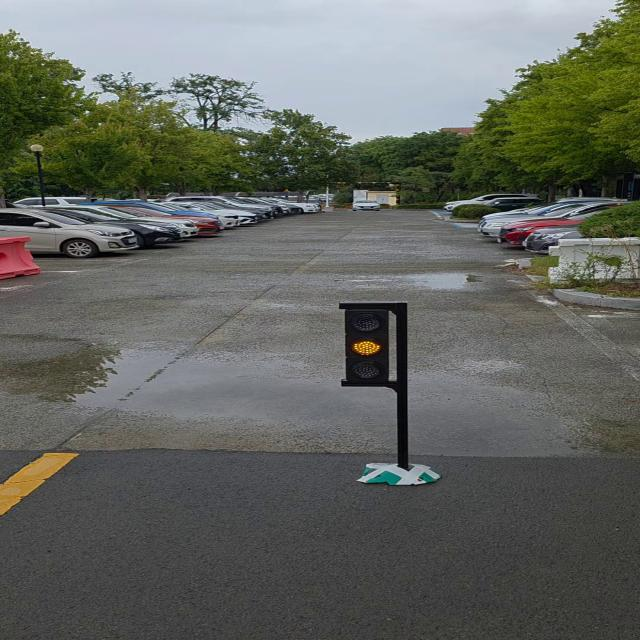yellow: (339, 302, 396, 390)
